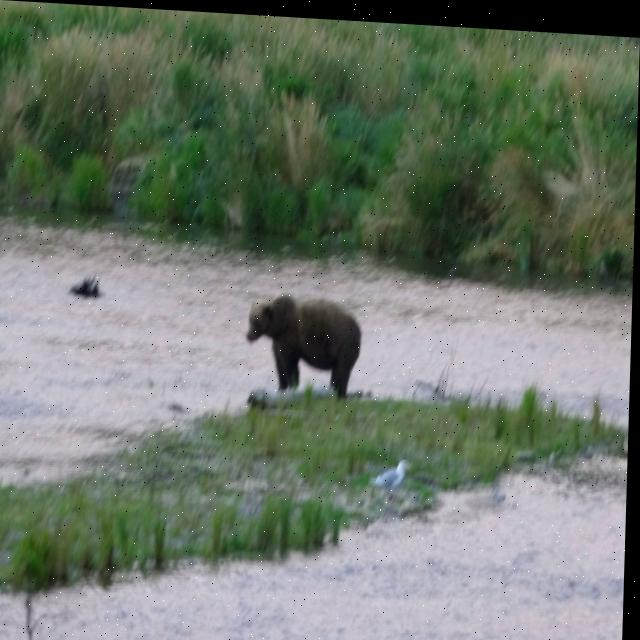bear face: (247, 295, 363, 387)
